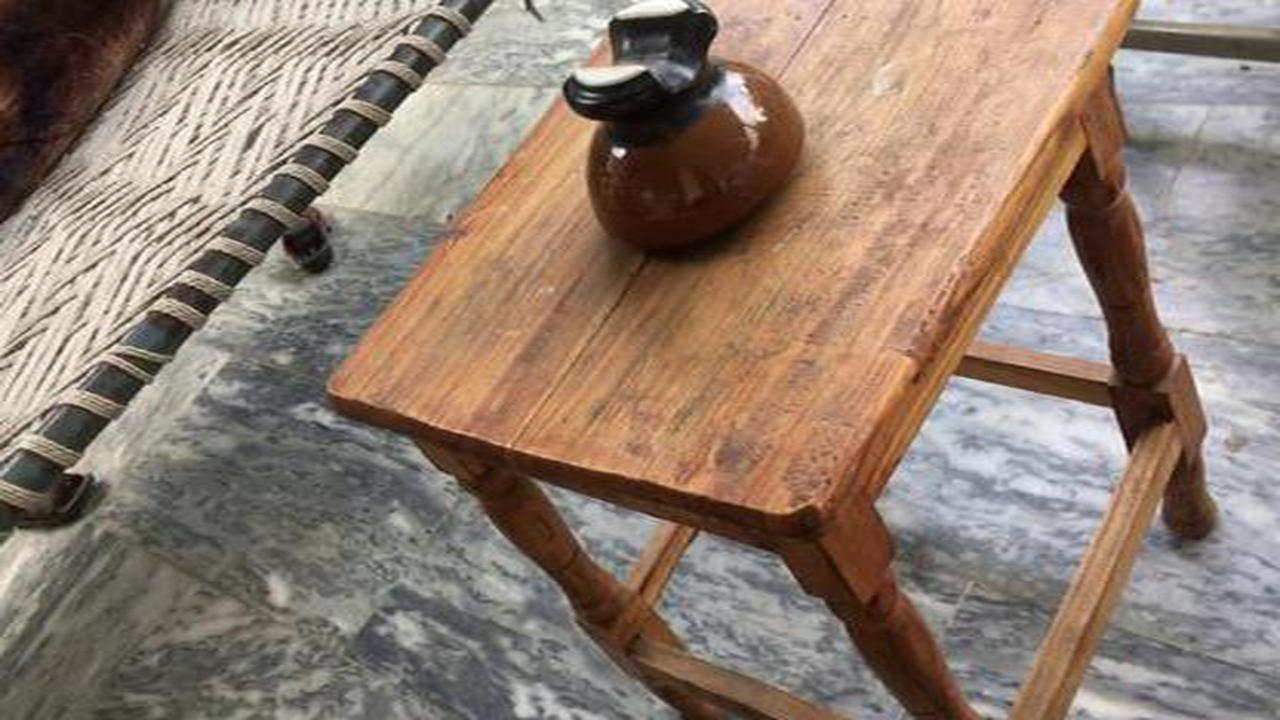insulator_pin: (545, 1, 822, 272)
